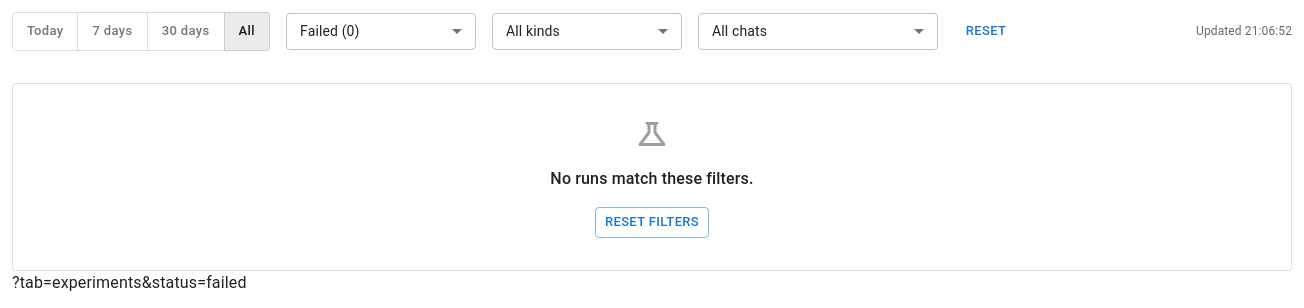
Scenario: ExperimentsOverview › says no run matches the filters and offers to reset them
The width and height of the screenshot is (1304, 308).
Expected: the element with test id "overview-empty" shows "No runs match these filters.", [550, 169, 754, 188]
Click the button "Reset filters": (652, 222) [595, 207, 709, 238]
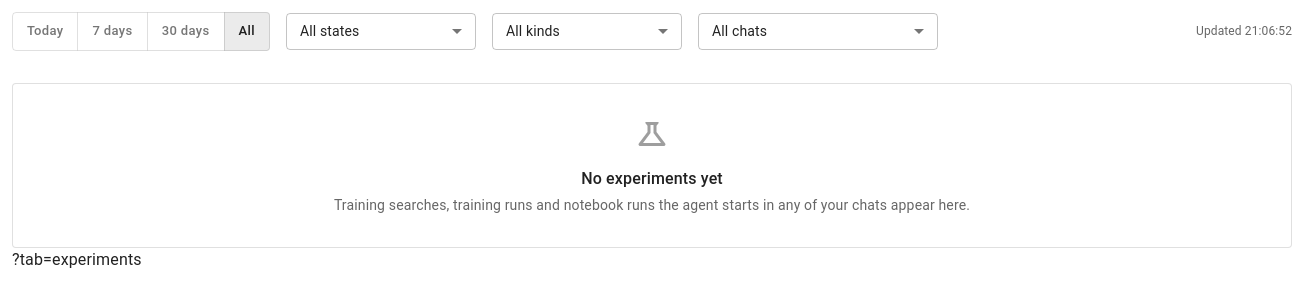
Expected: the text with test id "search" reads "?tab=experiments", [12, 250, 142, 269]
